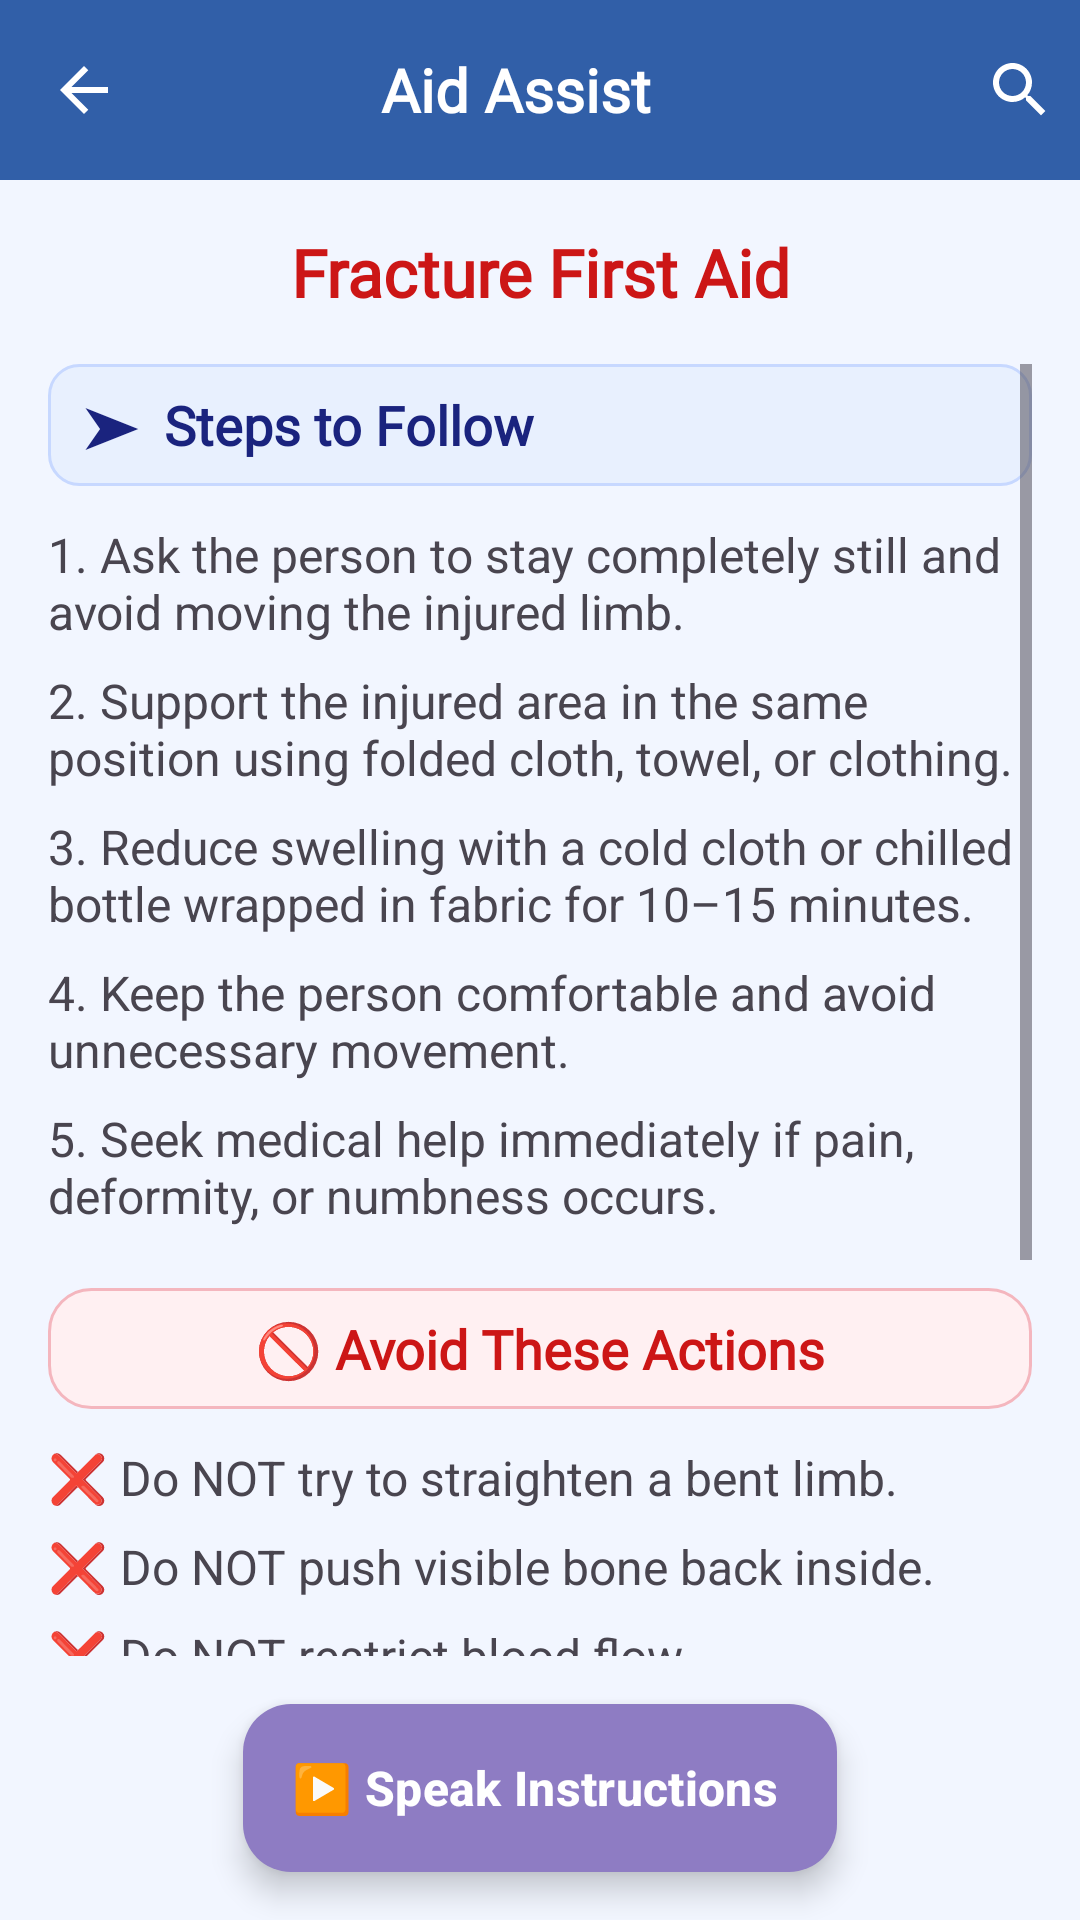

Where to tap for icons on this 1080w x 1920h app screen, as [x,y]:
Back: [84,90]
Toggle Search: [1019,89]
